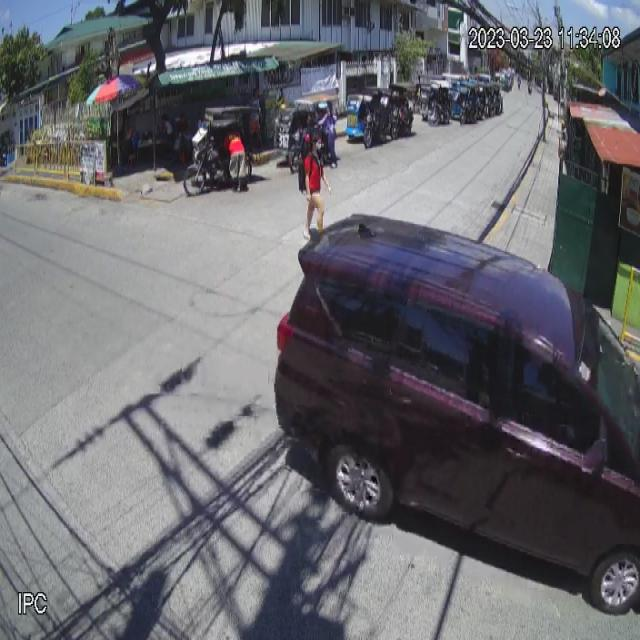Car: (271, 207, 640, 617)
